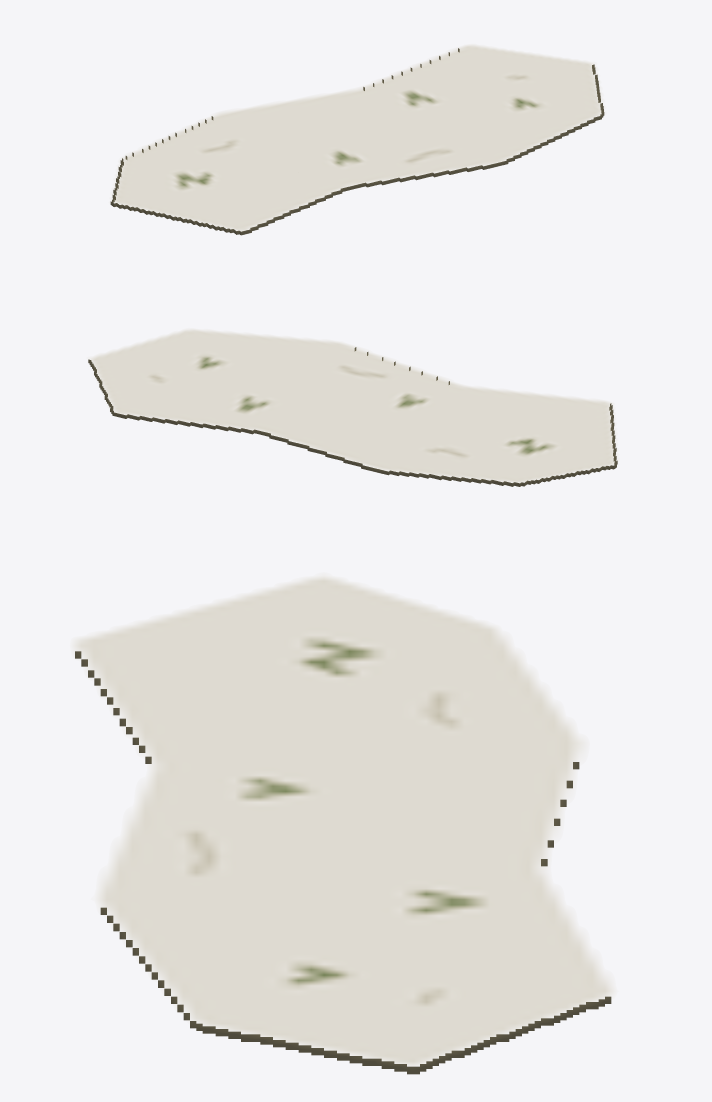
Rendered from DryGrassPatch.glb.
3 renders of one model, top to bottom at view 1: azimuth 30°, elevation 25°; view 2: azimuth 150°, elevation 25°; view 3: azimuth 270°, elevation 25°, orthographic. The views are drawn at different scales.
Parts seen in each view (by area): view 1: Visual; view 2: Visual; view 3: Visual.
Boxes of the visible parts, x1,y1,x2,y2 form: Visual: (110,45,604,235); Visual: (88,330,617,486); Visual: (75,577,611,1074).
Size of the model in its own units: 3 by 0.02 by 1.5.
Materials: 3 (2 with a texture image).
